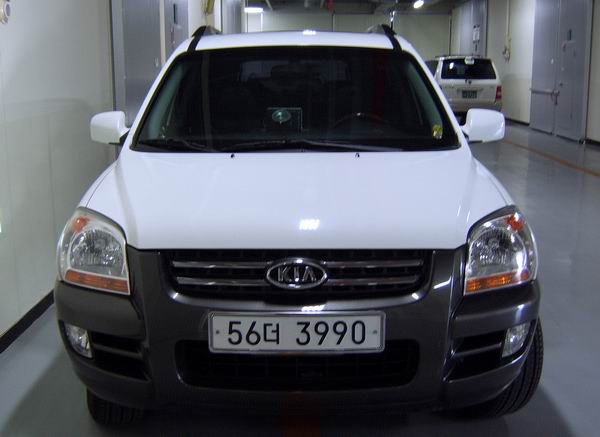plate: (208, 313, 384, 353)
